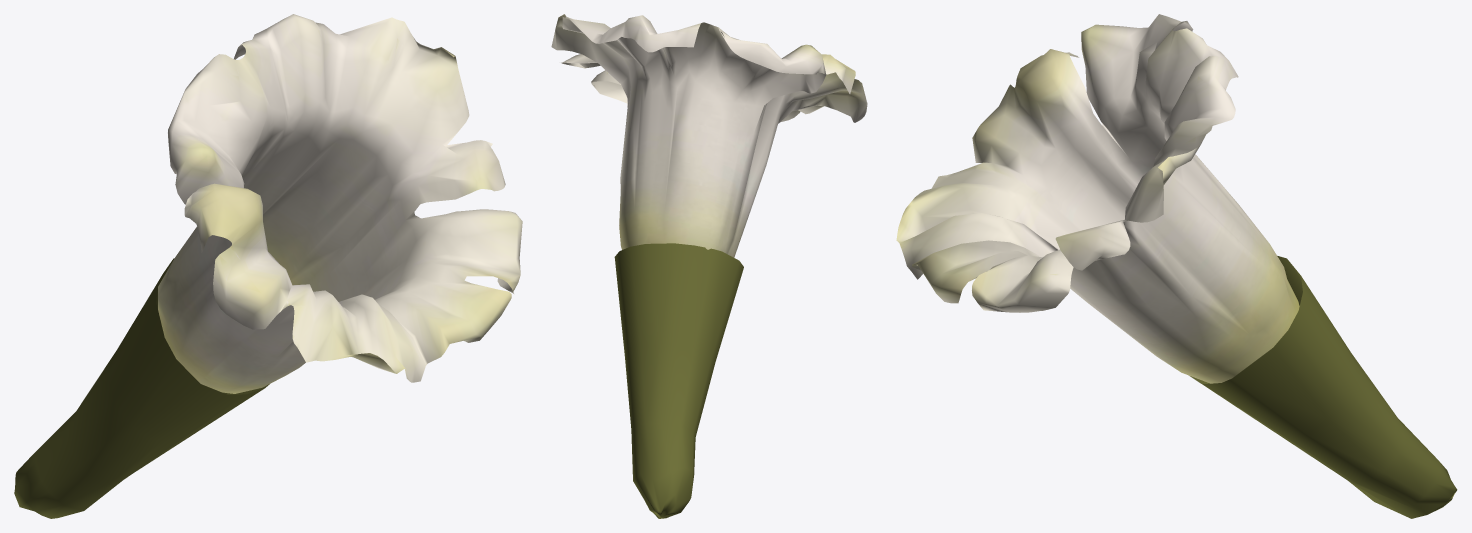
3 renders of one model, left to right at view 1: azimuth 30°, elevation 25°; view 2: azimuth 150°, elevation 25°; view 3: azimuth 270°, elevation 25°, orthographic. The views are drawn at different scales.
Visible parts, largest first — view 1: G-Ellipse164 70% 70% 70% 70%.008; view 2: G-Ellipse164 70% 70% 70% 70%.008; view 3: G-Ellipse164 70% 70% 70% 70%.008.
Boxes of the visible parts, <box> form: G-Ellipse164 70% 70% 70% 70%.008: <box>14,14,522,518</box>; G-Ellipse164 70% 70% 70% 70%.008: <box>551,14,867,518</box>; G-Ellipse164 70% 70% 70% 70%.008: <box>896,14,1457,518</box>.
Bounding box in the file's own units: 0.7098 × 1.08 × 1.05.
2 materials, 1 textured.
